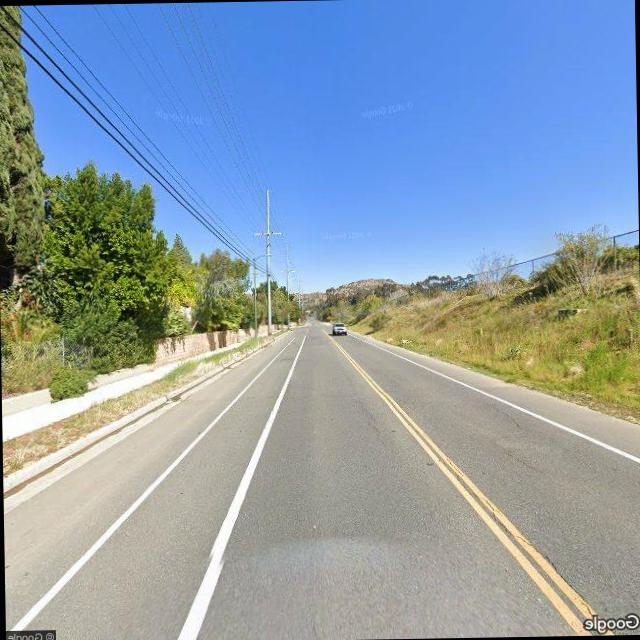crack: (446, 456, 600, 624)
